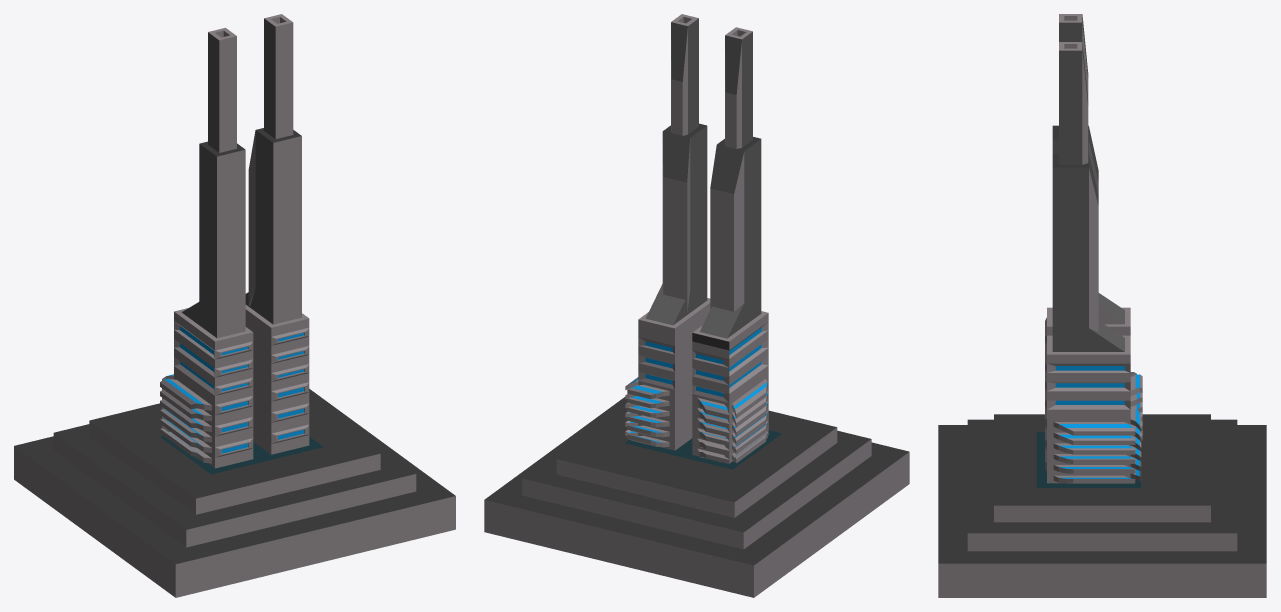
File: laser.fbx
3 views of the same model, side by side, from view 1: azimuth 30°, elevation 25°; view 2: azimuth 150°, elevation 25°; view 3: azimuth 270°, elevation 25° (orthographic). The views are drawn at different scales.
Visible parts, largest first — view 1: Cube; view 2: Cube; view 3: Cube.
Boxes of the visible parts, x1=… form: Cube: x1=14, y1=14, x2=455, y2=597; Cube: x1=484, y1=14, x2=909, y2=597; Cube: x1=938, y1=14, x2=1266, y2=597.
Bounding box in the file's own units: 200 × 333 × 200.
